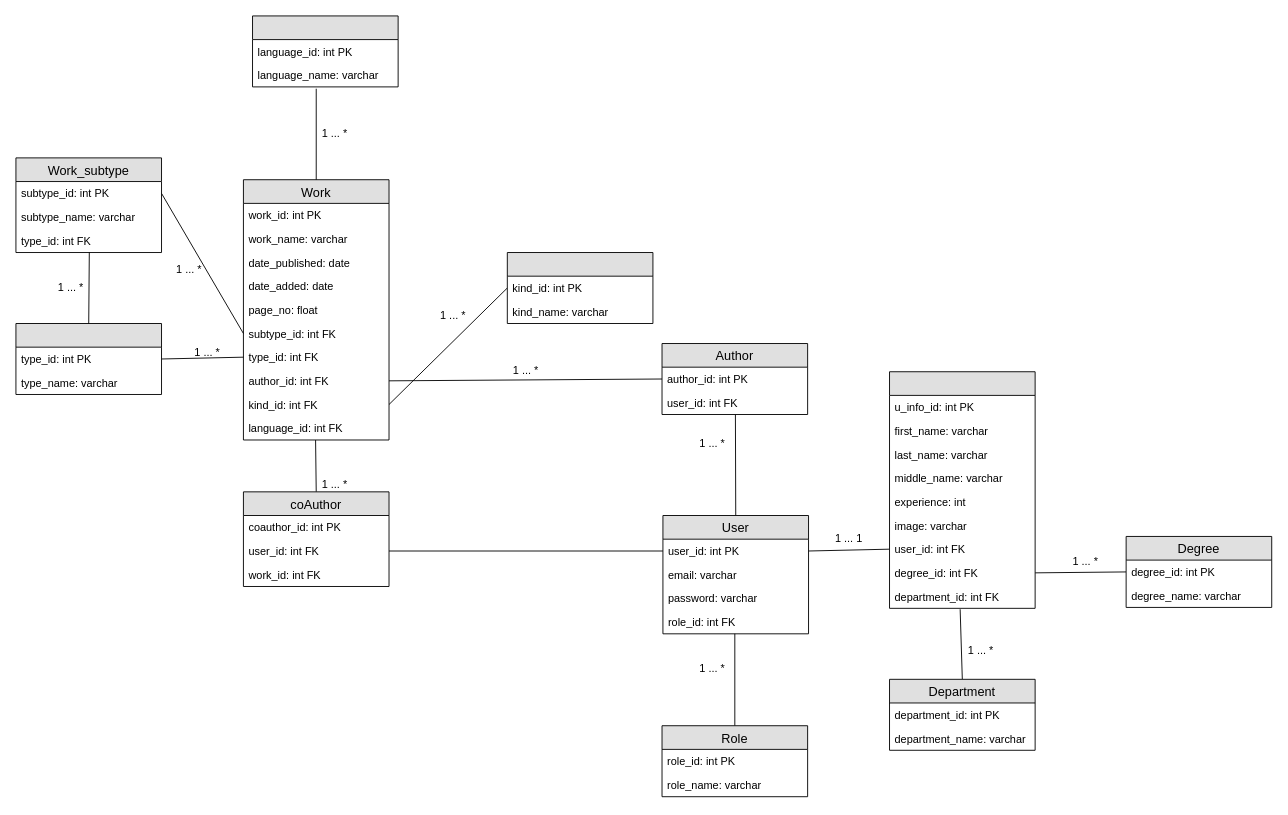
This 1288x815 diagram has some shape labels left out. The box of each missing label's shape, as (x1, y1, x2, y2) in pixels:
User_info: (889, 371, 1035, 608)
Work_kind: (506, 252, 653, 324)
Work_language: (252, 15, 398, 87)
Work_type: (15, 323, 162, 394)
